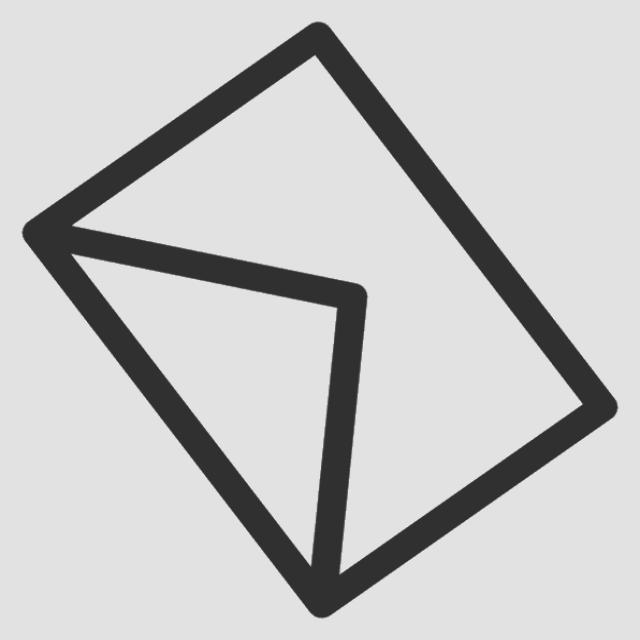letter: (15, 15, 629, 629)
